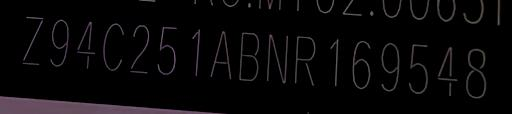letter: (434, 43, 460, 98), (406, 40, 432, 94), (292, 33, 318, 86), (462, 46, 488, 99), (208, 29, 234, 81), (100, 21, 126, 71), (20, 12, 44, 66), (237, 30, 261, 84), (265, 31, 289, 85), (128, 22, 152, 74), (155, 24, 179, 76), (349, 38, 373, 90), (378, 40, 402, 92), (74, 19, 98, 70), (48, 17, 70, 70), (188, 27, 204, 78), (328, 35, 342, 88)
